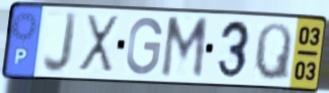3: (216, 17, 252, 83)
G: (124, 15, 165, 78)
J: (40, 9, 80, 76)
M: (158, 15, 211, 82)
Q: (252, 21, 294, 83)
X: (76, 12, 121, 77)
